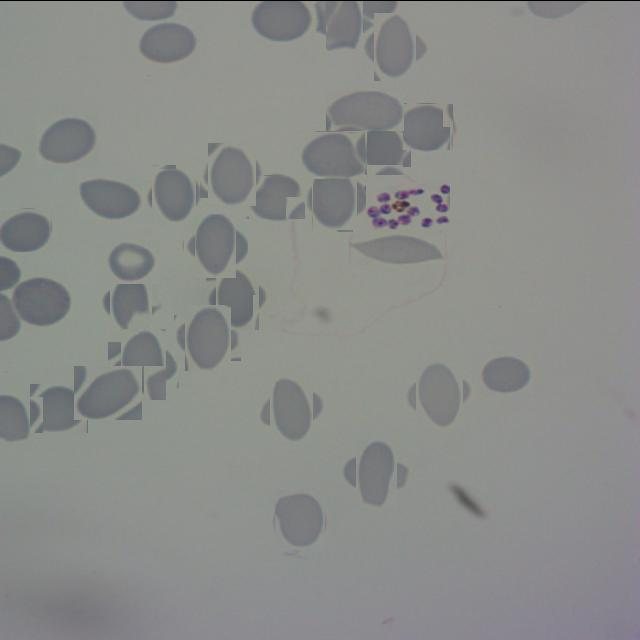leukocyte: (74, 365, 142, 419), (36, 114, 98, 170), (114, 335, 173, 393), (410, 364, 468, 422), (180, 308, 236, 366), (10, 275, 73, 326), (204, 145, 260, 201), (348, 444, 404, 500), (272, 492, 328, 548), (301, 130, 366, 178), (326, 90, 404, 130), (349, 232, 446, 264), (264, 380, 319, 435), (368, 19, 422, 74), (308, 172, 362, 226), (30, 382, 88, 432), (136, 20, 200, 65), (78, 178, 142, 222), (189, 219, 242, 272), (211, 272, 264, 324), (148, 168, 200, 220), (105, 276, 157, 328), (246, 174, 305, 218), (401, 102, 454, 149), (105, 239, 160, 283), (0, 207, 52, 251), (360, 122, 407, 170), (479, 353, 534, 394), (320, 0, 370, 43)
ring: (366, 181, 451, 229)
